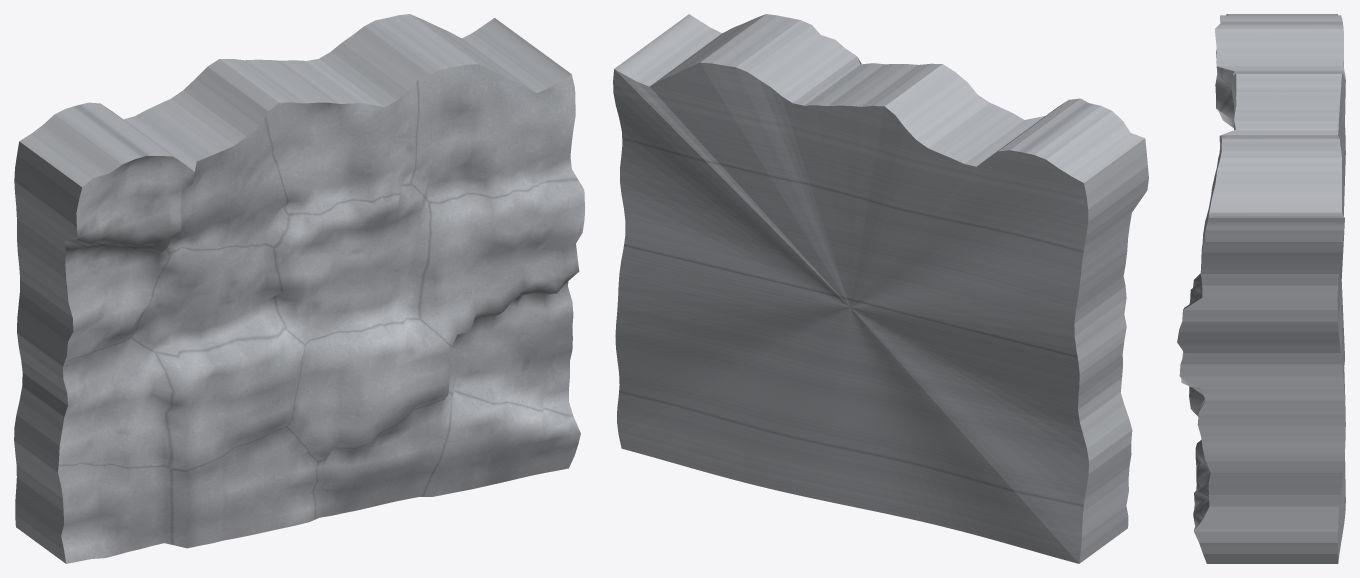
Rendered from rock-lod2.glb.
3 renders of one model, left to right at view 1: azimuth 30°, elevation 25°; view 2: azimuth 150°, elevation 25°; view 3: azimuth 270°, elevation 25°, orthographic. The views are drawn at different scales.
Visible parts, largest first — view 1: Rock_LOD2; view 2: Rock_LOD2; view 3: Rock_LOD2.
Boxes of the visible parts, <box> form: Rock_LOD2: <box>14,14,584,563</box>; Rock_LOD2: <box>613,14,1148,563</box>; Rock_LOD2: <box>1177,14,1345,563</box>.
Size of the model in its own units: 12.06 by 10 by 4.09.
Materials: 1 (1 with a texture image).
